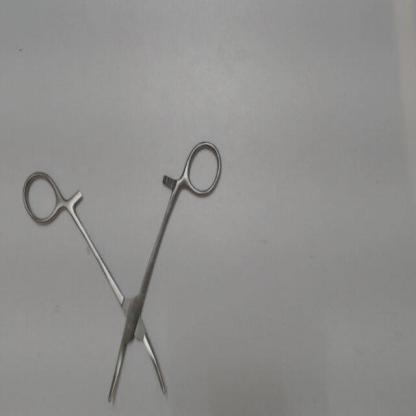Crile Artery Forceps: (18, 133, 228, 407)
